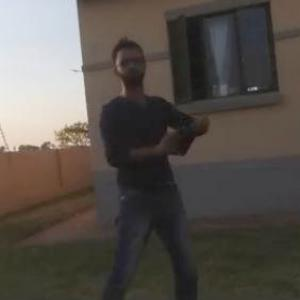follow: (86, 32, 217, 299)
